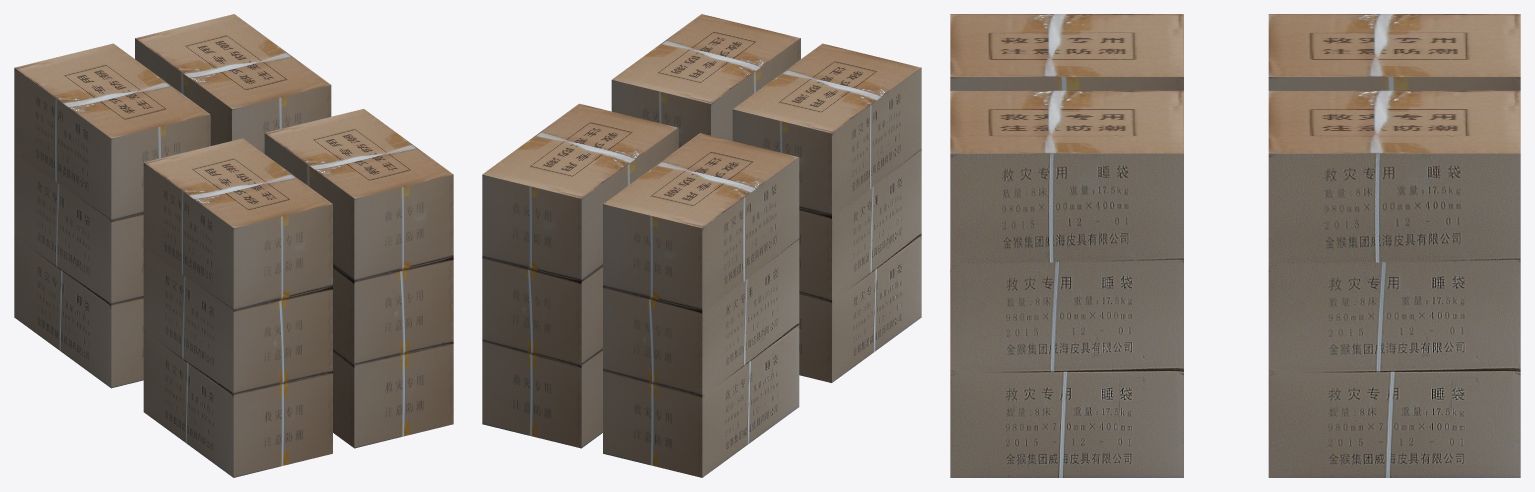
The model's file is shuidai.FBX.
The picture shows the model from 3 angles, left to right: view 1: azimuth 30°, elevation 25°; view 2: azimuth 150°, elevation 25°; view 3: azimuth 270°, elevation 25°; orthographic projection. The views are drawn at different scales.
Parts seen in each view (by area): view 1: 对象25; view 2: 对象25; view 3: 对象25.
Part boxes in pixels (box(x1,y1,x2,y2)): 对象25: box(14, 14, 453, 477); 对象25: box(482, 14, 921, 477); 对象25: box(950, 14, 1520, 477).
Size of the model in its own units: 0.9339 by 1.61 by 1.01.
